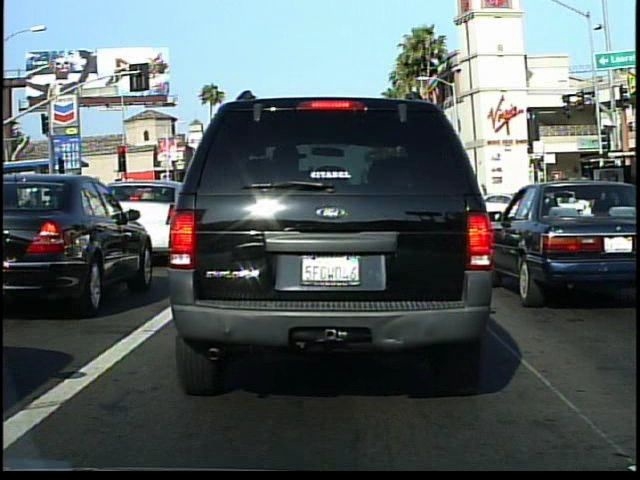person: (586, 171, 610, 228)
